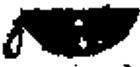Basket: (2, 4, 139, 62)
